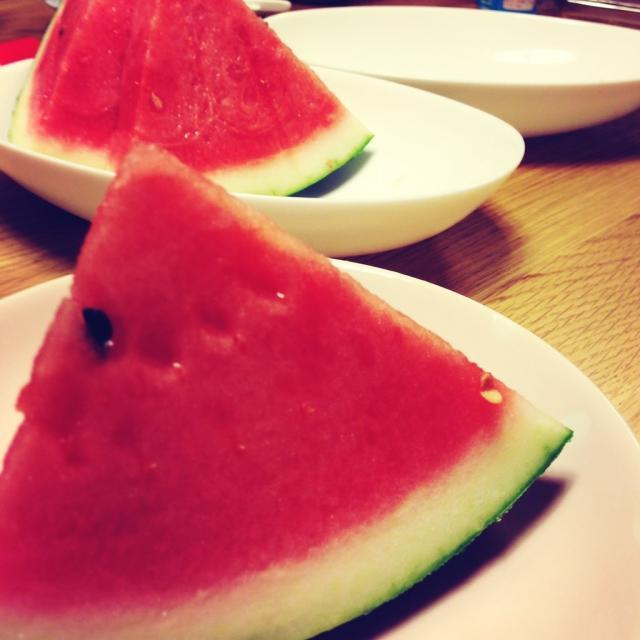Watermelon: (0, 139, 569, 639), (112, 0, 372, 199), (3, 0, 128, 169)
